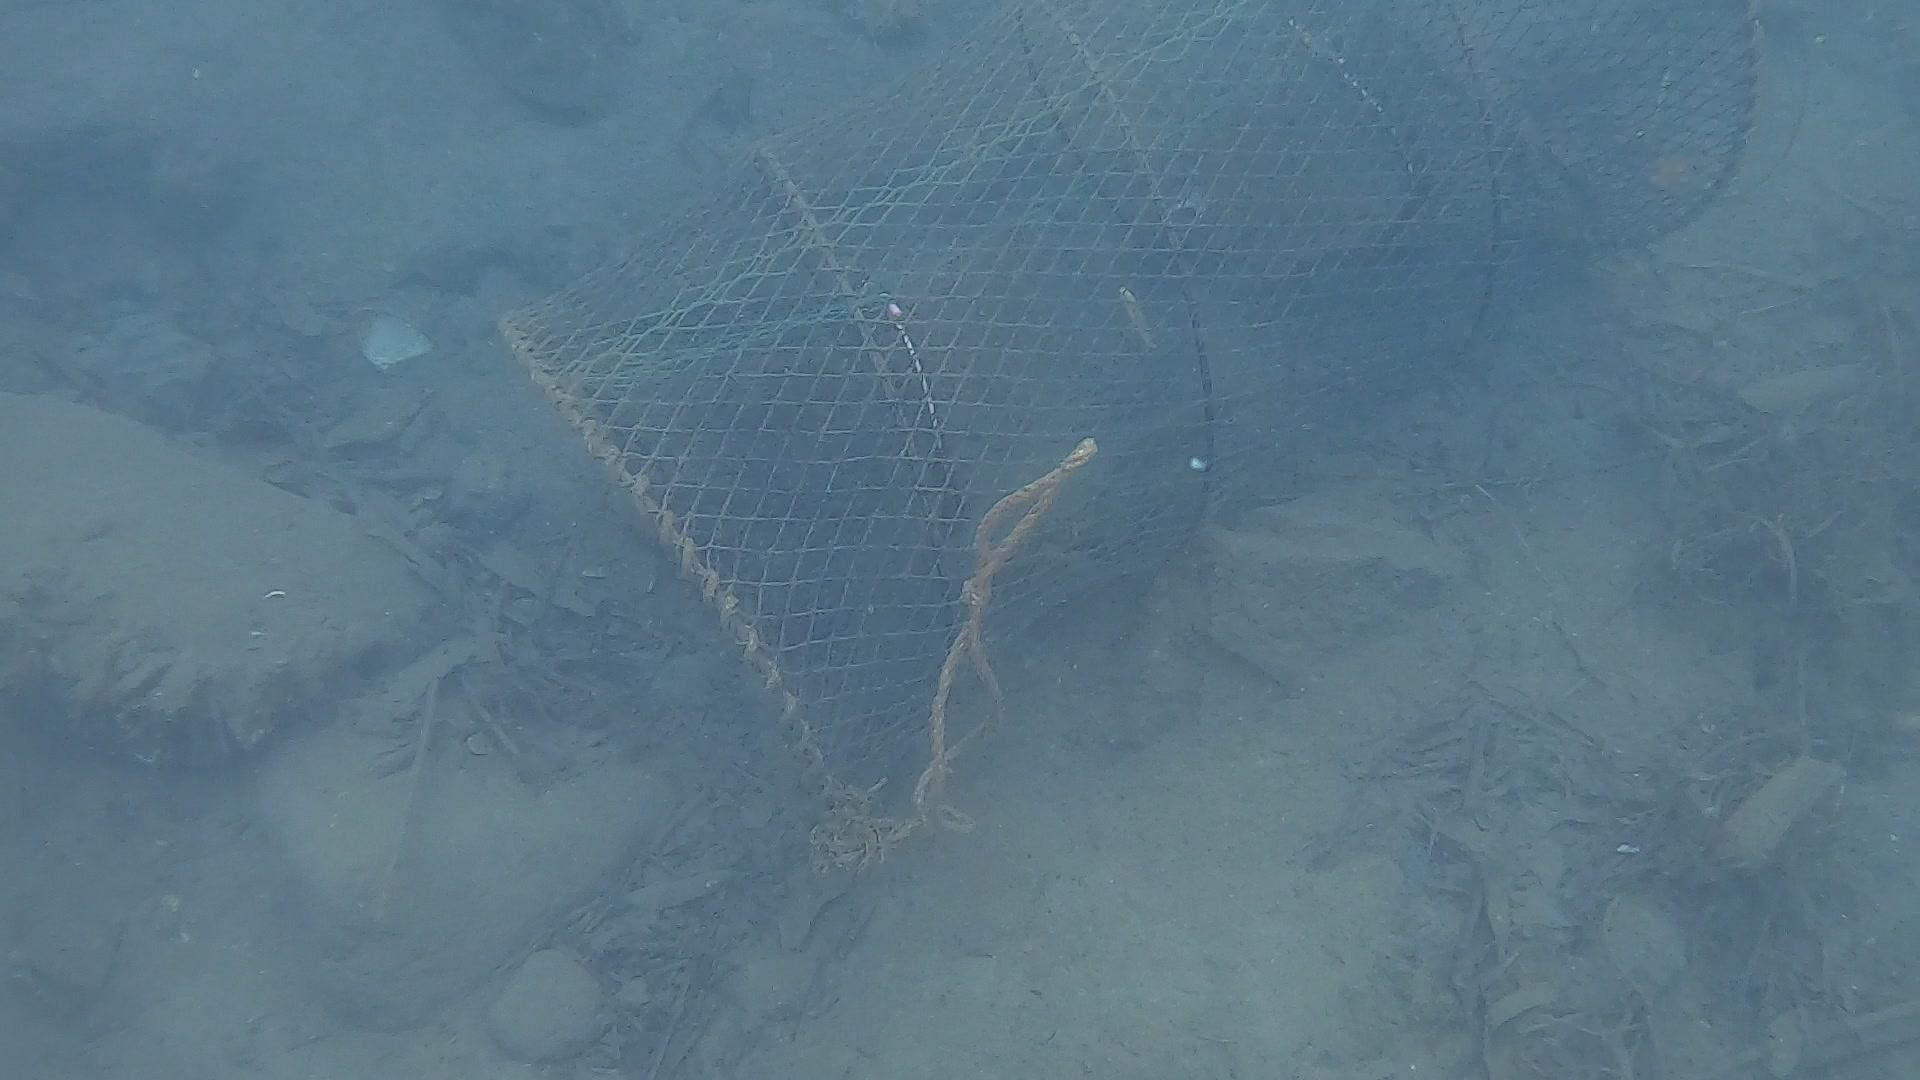bundle of ropes: (880, 433, 1102, 878)
spring fish trap: (492, 0, 1760, 874)
